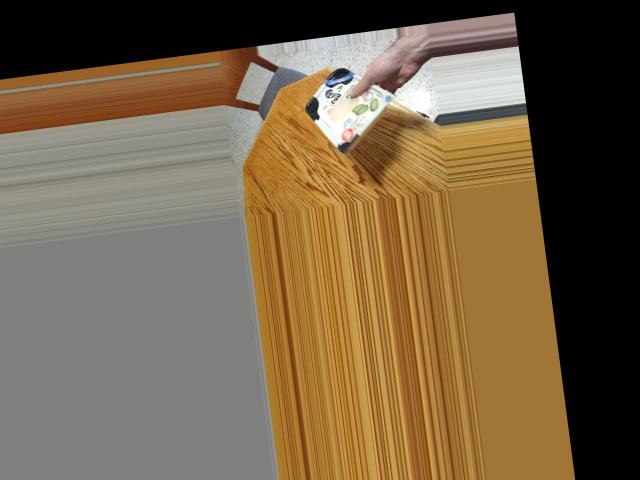cheese: (303, 73, 391, 144)
